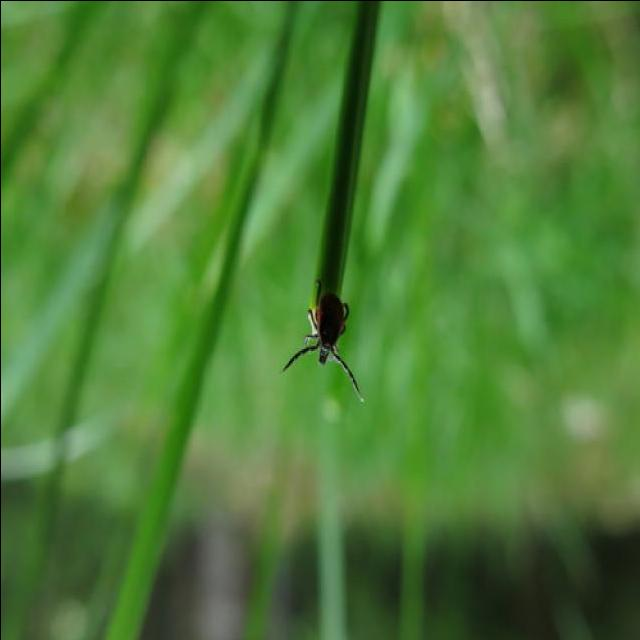Ixodes Ricinus-F: (280, 285, 364, 399)
